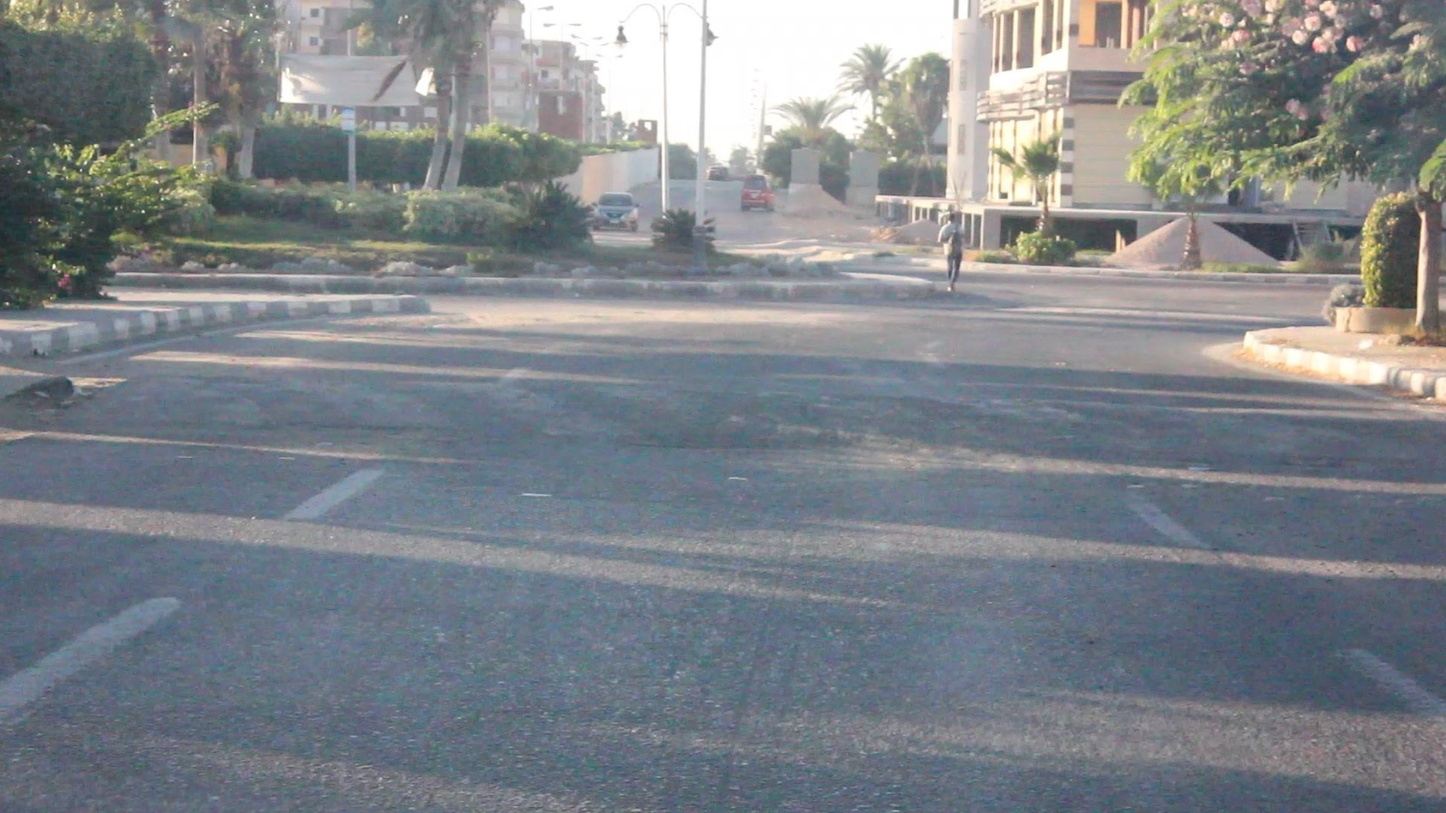Bump: (87, 365, 1416, 480)
